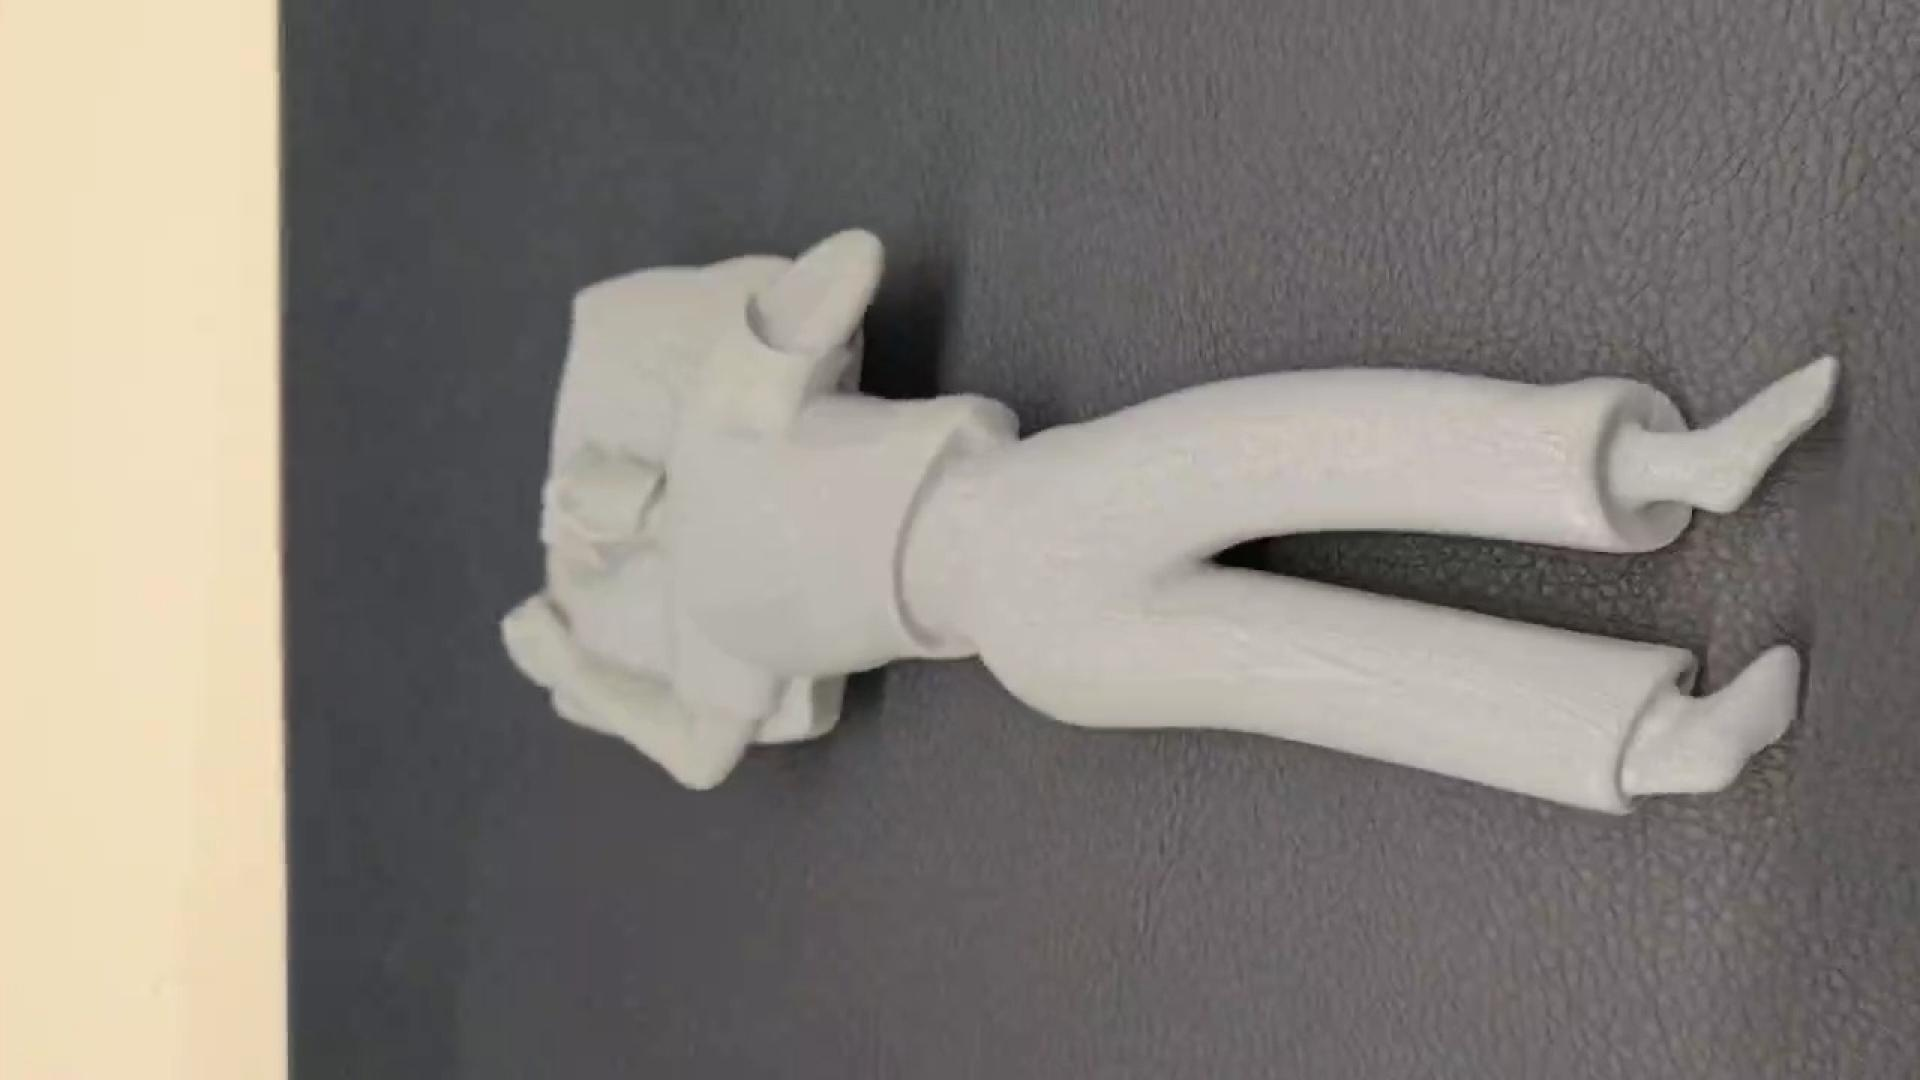Bad-style: (506, 216, 1832, 819)
